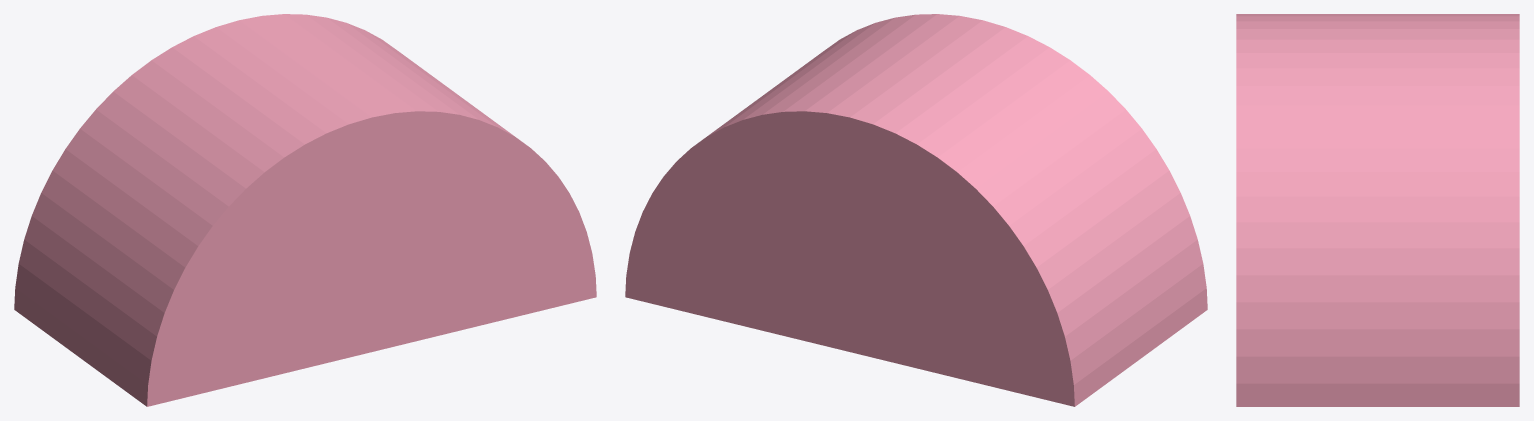
File: arc.glb
3 views of the same model, side by side, from view 1: azimuth 30°, elevation 25°; view 2: azimuth 150°, elevation 25°; view 3: azimuth 270°, elevation 25° (orthographic). The views are drawn at different scales.
Visible parts, largest first — view 1: Arc; view 2: Arc; view 3: Arc.
Part boxes in pixels (left/top/right/bottom): Arc: left=14, top=14, right=596, bottom=406; Arc: left=625, top=14, right=1207, bottom=406; Arc: left=1236, top=14, right=1519, bottom=406.
Bounding box in the file's own units: 0.2006 × 0.1 × 0.1027.
